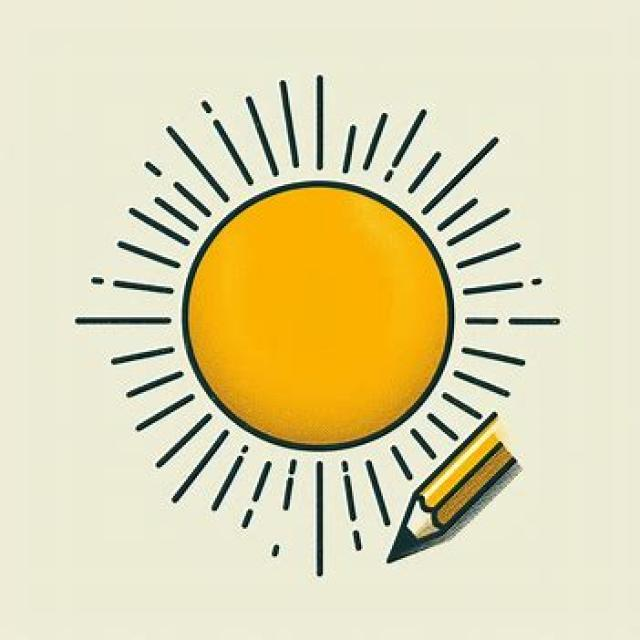Circle: (182, 181, 449, 450)
